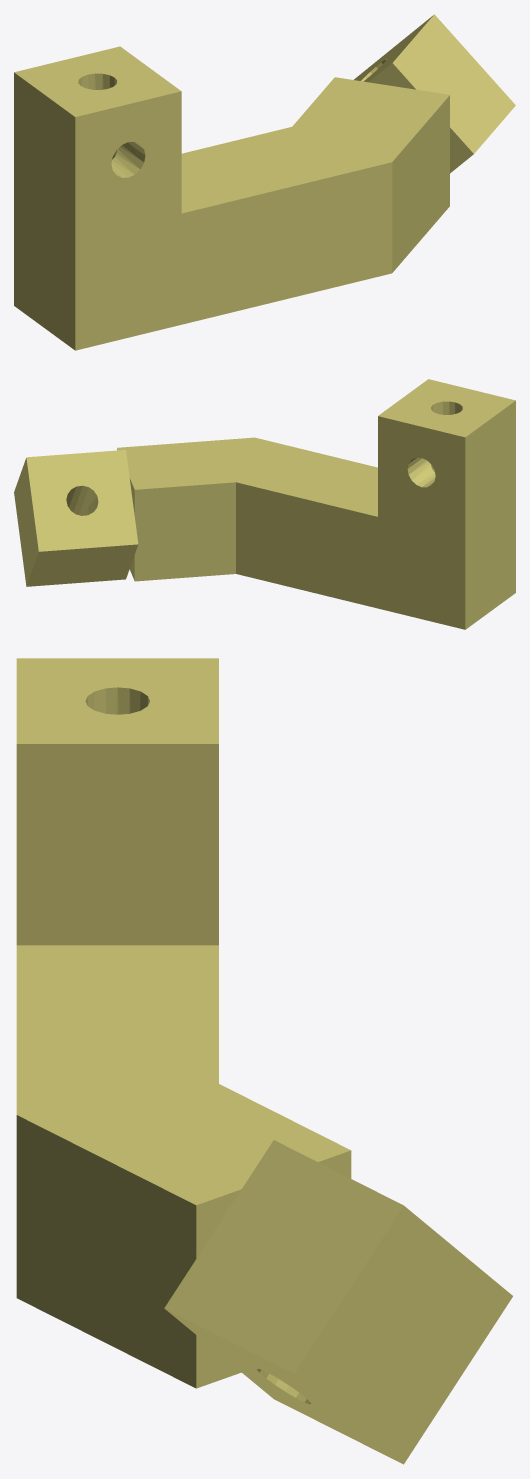
The model's file is LARM_THUMB3_LINK_mesh.dae.
3 views of the same model, one above another, from view 1: azimuth 30°, elevation 25°; view 2: azimuth 150°, elevation 25°; view 3: azimuth 270°, elevation 25° (orthographic). The views are drawn at different scales.
Visible parts, largest first — view 1: LARM_THUMB3_LINK; view 2: LARM_THUMB3_LINK; view 3: LARM_THUMB3_LINK.
Boxes of the visible parts, box(x1,y1,x2,y2) form: LARM_THUMB3_LINK: box(14, 14, 515, 350); LARM_THUMB3_LINK: box(14, 379, 515, 629); LARM_THUMB3_LINK: box(16, 658, 512, 1464).
Size of the model in its own units: 0.0494 by 0.0231 by 0.0246.
